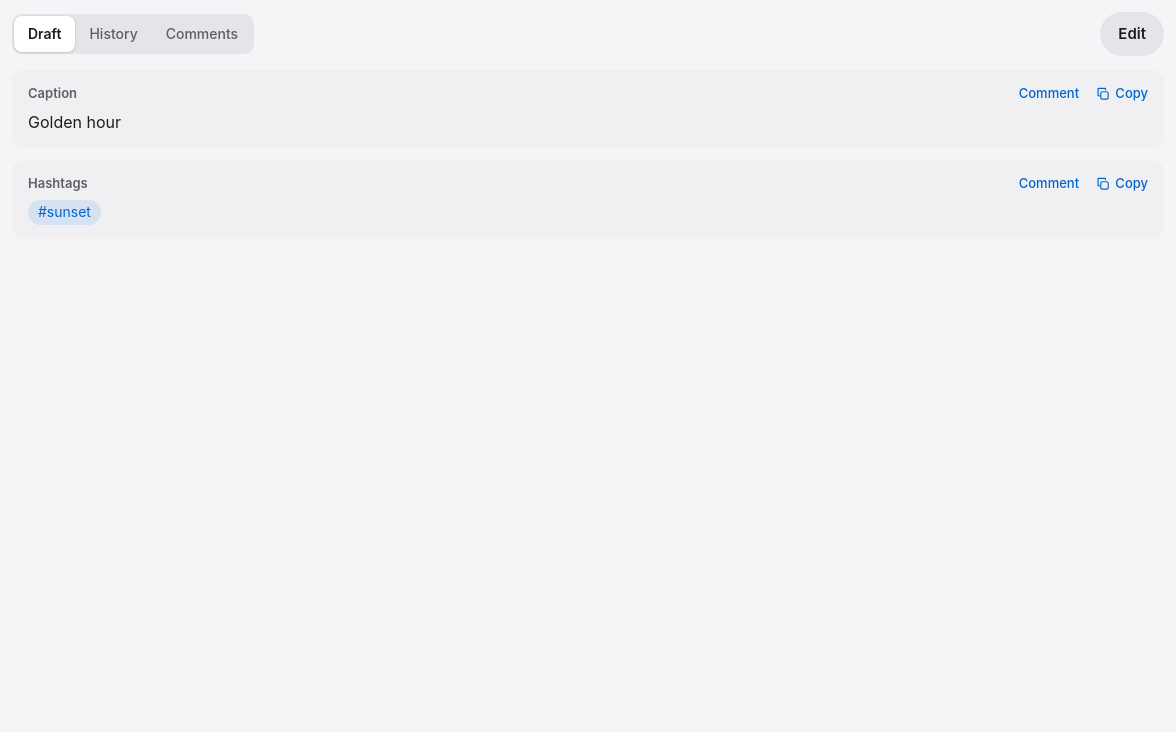
Test: DraftPanel › warns the uploader that editing a decided draft brings it back to them
Click the button "Edit".
click(1132, 34)  # box [1100,12,1164,56]
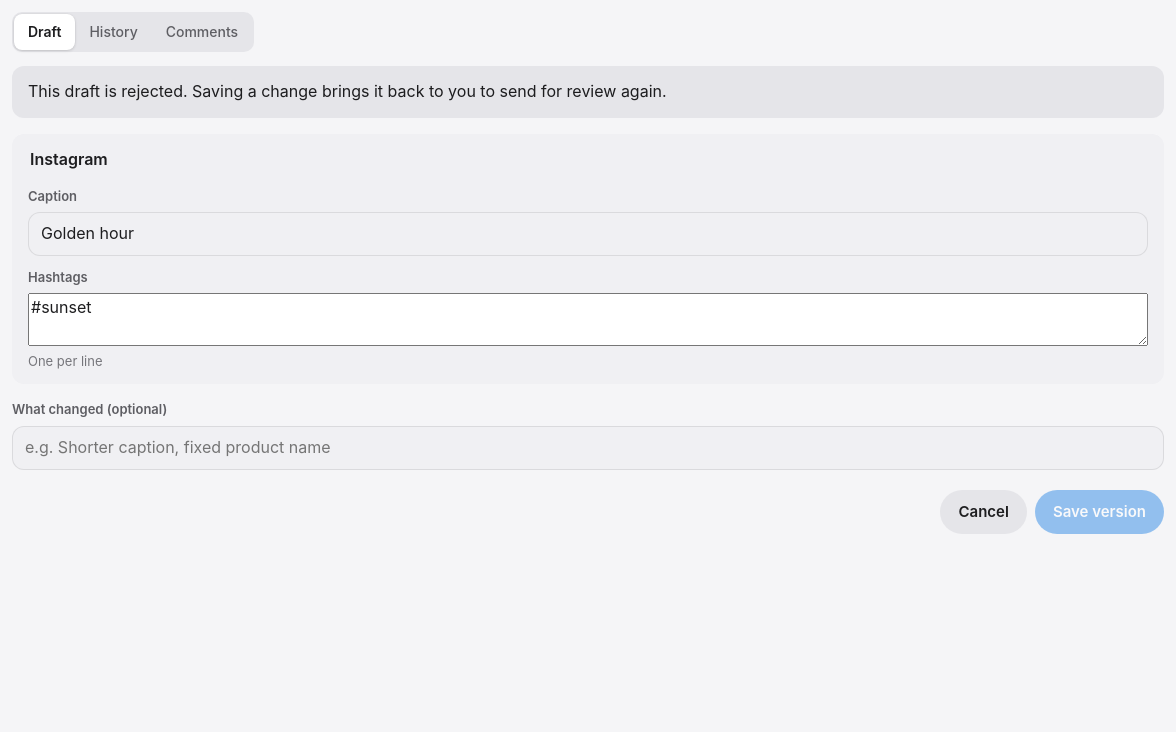
Result: the text "brings it back to you to send for review again" is shown at [28,81,667,101]
